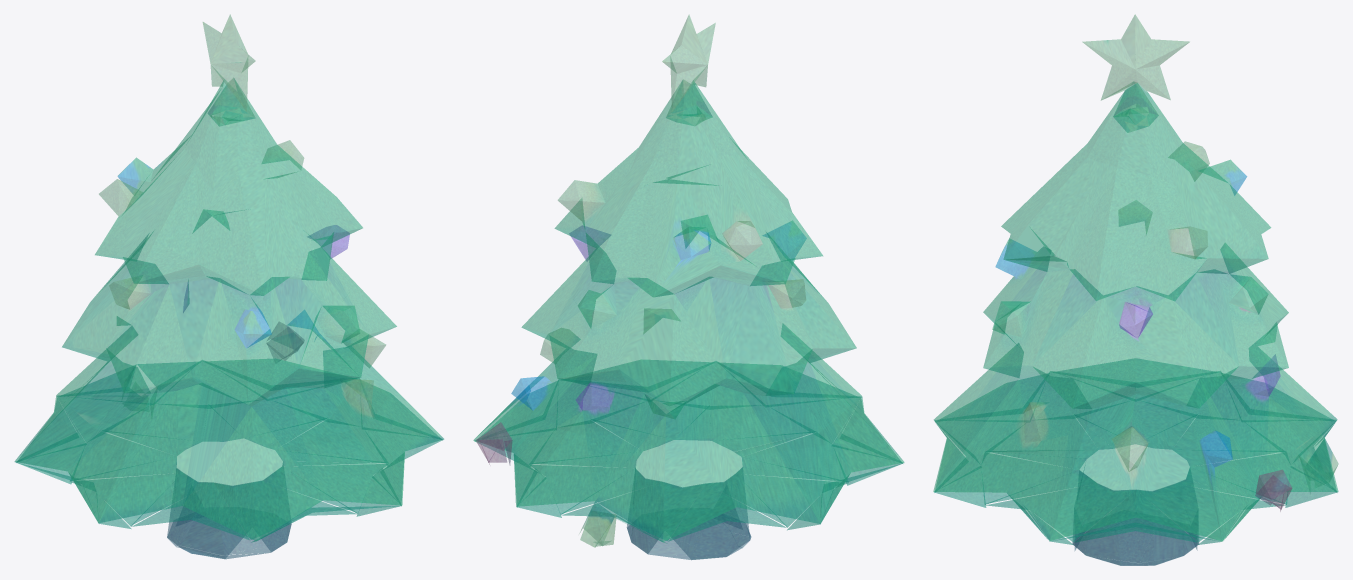
The model's file is cristmastree.glb.
3 views of the same model, side by side, from view 1: azimuth 30°, elevation 25°; view 2: azimuth 150°, elevation 25°; view 3: azimuth 270°, elevation 25° (orthographic).
Visible parts, largest first — view 1: tripo_node_98c362f6-3934-498c-871c-6efb783ff450; view 2: tripo_node_98c362f6-3934-498c-871c-6efb783ff450; view 3: tripo_node_98c362f6-3934-498c-871c-6efb783ff450.
Part boxes in pixels (x1=…): tripo_node_98c362f6-3934-498c-871c-6efb783ff450: x1=14, y1=14, x2=443, y2=559; tripo_node_98c362f6-3934-498c-871c-6efb783ff450: x1=473, y1=14, x2=904, y2=560; tripo_node_98c362f6-3934-498c-871c-6efb783ff450: x1=933, y1=14, x2=1338, y2=565.
Size of what is drawn, in the model's own units: 3.63 by 5.28 by 3.64.
Materials: 1 (1 with a texture image).
